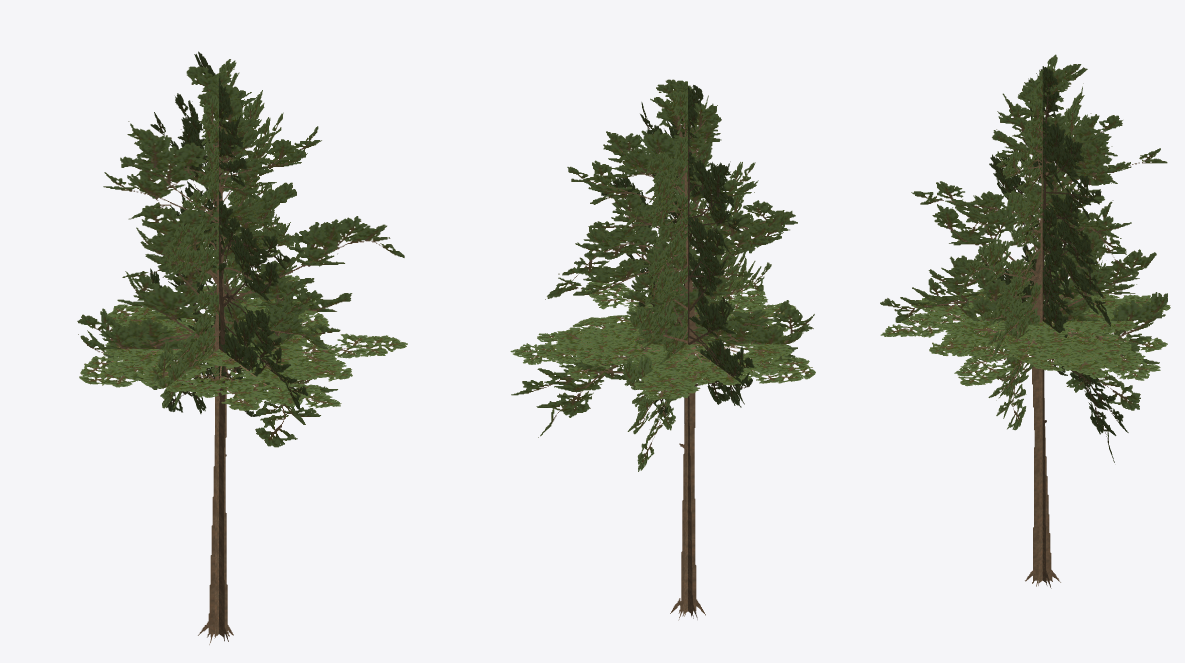
3 views of the same model, side by side, from view 1: azimuth 30°, elevation 25°; view 2: azimuth 150°, elevation 25°; view 3: azimuth 270°, elevation 25° (orthographic). The views are drawn at different scales.
Visible parts, largest first — view 1: Pine_large_2_Billboard_LOD3_Pine_large_2_Billboard_Mat_0; view 2: Pine_large_2_Billboard_LOD3_Pine_large_2_Billboard_Mat_0; view 3: Pine_large_2_Billboard_LOD3_Pine_large_2_Billboard_Mat_0.
Part boxes in pixels (<box>): Pine_large_2_Billboard_LOD3_Pine_large_2_Billboard_Mat_0: <box>77,51,407,644</box>; Pine_large_2_Billboard_LOD3_Pine_large_2_Billboard_Mat_0: <box>510,79,815,620</box>; Pine_large_2_Billboard_LOD3_Pine_large_2_Billboard_Mat_0: <box>880,54,1170,588</box>.
Bounding box in the file's own units: 16.08 × 31.27 × 15.8.
